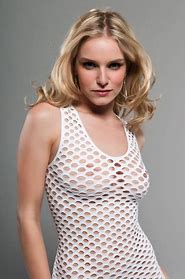person: (53, 8, 145, 109)
